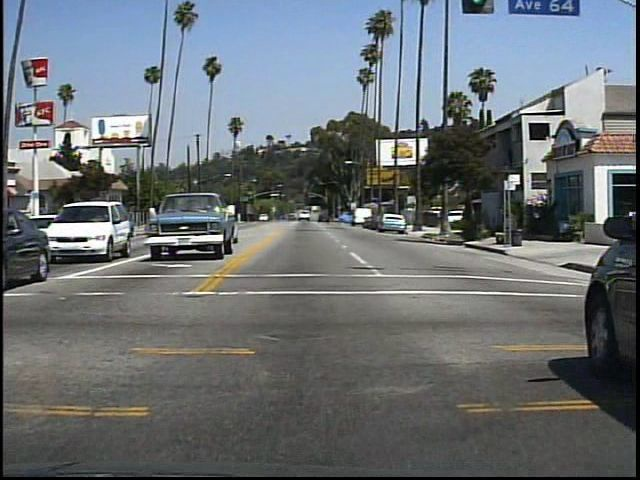person: (476, 199, 499, 245)
